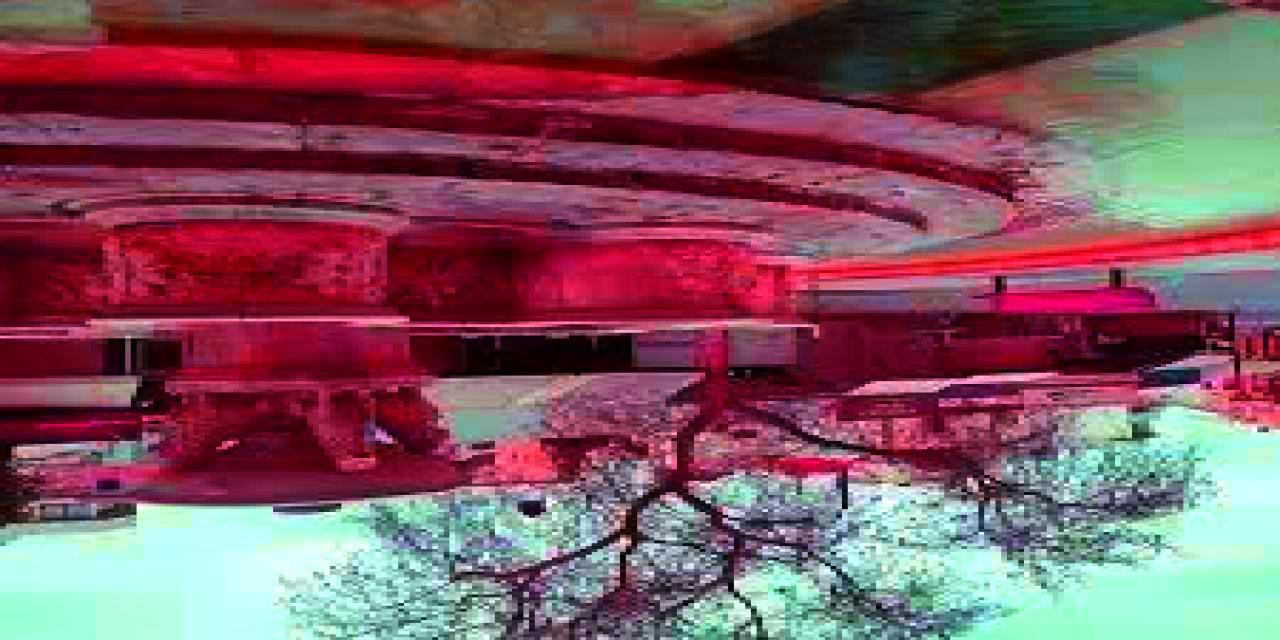Liontaria: (9, 217, 784, 518)
